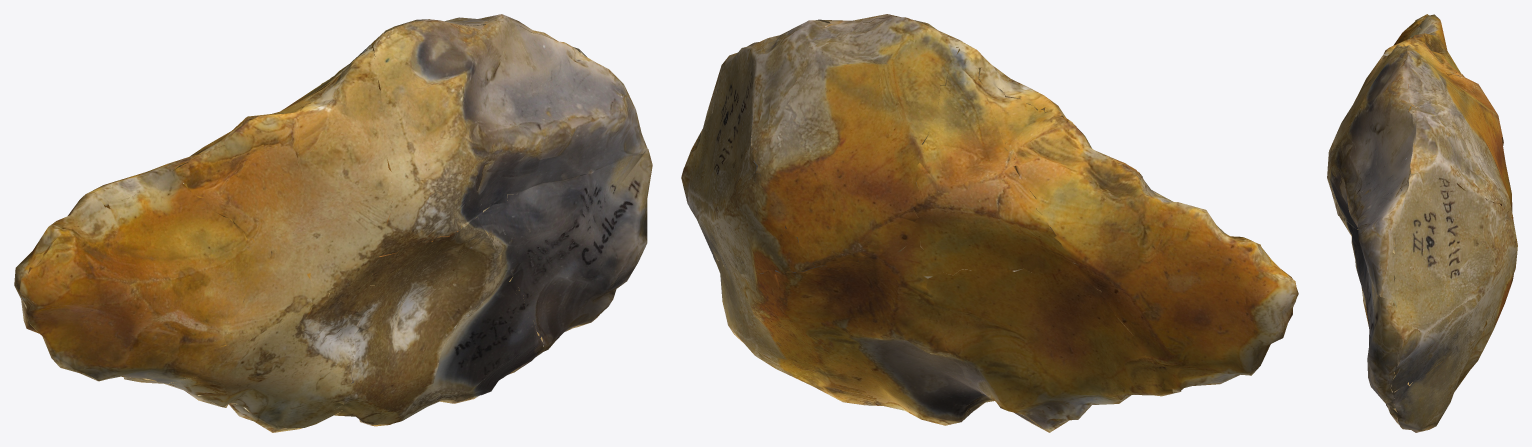
Rendered from hand_axe.glb.
The picture shows the model from 3 angles, left to right: view 1: azimuth 30°, elevation 25°; view 2: azimuth 150°, elevation 25°; view 3: azimuth 270°, elevation 25°; orthographic projection. The views are drawn at different scales.
Visible parts, largest first — view 1: Object_2; view 2: Object_2; view 3: Object_2.
Part boxes in pixels (x1=…): Object_2: x1=14, y1=14, x2=652, y2=432; Object_2: x1=681, y1=14, x2=1298, y2=432; Object_2: x1=1327, y1=14, x2=1517, y2=432.
Bounding box in the file's own units: 0.1602 × 0.0978 × 0.0485.
Materials: 1 (1 with a texture image).
